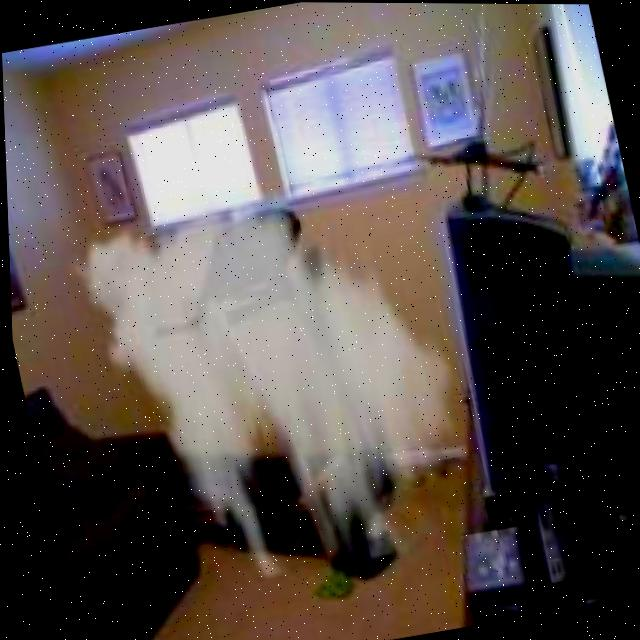Smoke: (44, 145, 494, 602)
